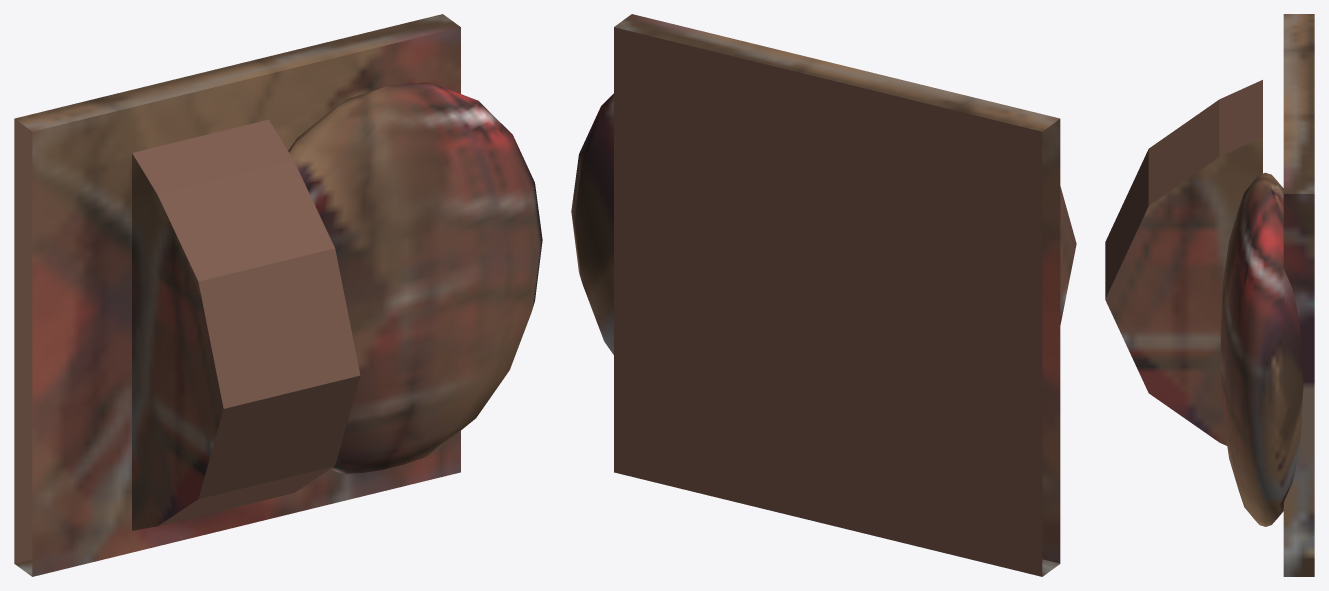
The model's file is section-5.obj.
3 views of the same model, side by side, from view 1: azimuth 30°, elevation 25°; view 2: azimuth 150°, elevation 25°; view 3: azimuth 270°, elevation 25° (orthographic). The views are drawn at different scales.
Bounding box in the file's own units: 0.9864 × 0.8398 × 0.4164.
Materials: 1 (1 with a texture image).
